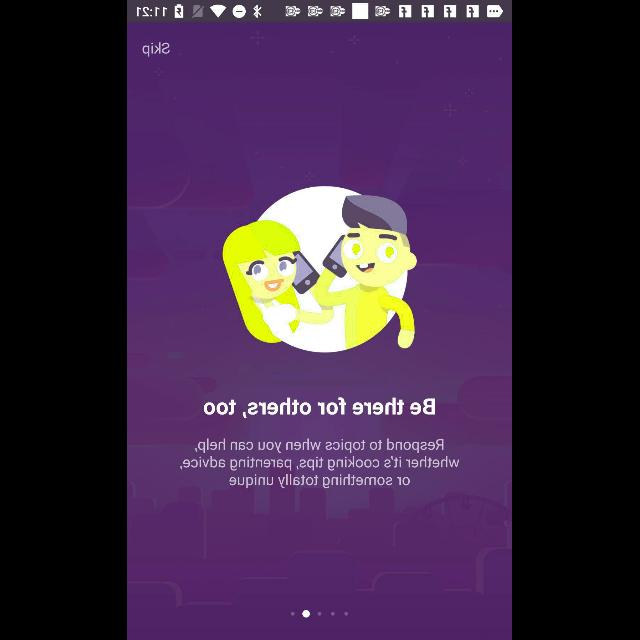backgroundimage: (128, 22, 512, 640)
image: (224, 186, 418, 354)
pageindicator: (290, 610, 350, 618)
text: (181, 438, 461, 488), (204, 397, 436, 419), (143, 42, 171, 58)
uppertaskbar: (128, 1, 512, 23)
